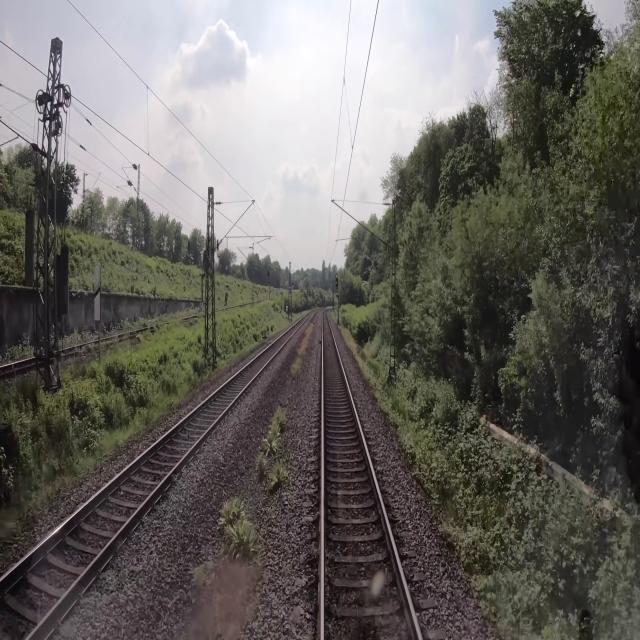Plant: (215, 496, 258, 561), (290, 321, 314, 377), (262, 404, 286, 453), (266, 459, 286, 490), (256, 453, 268, 476)
